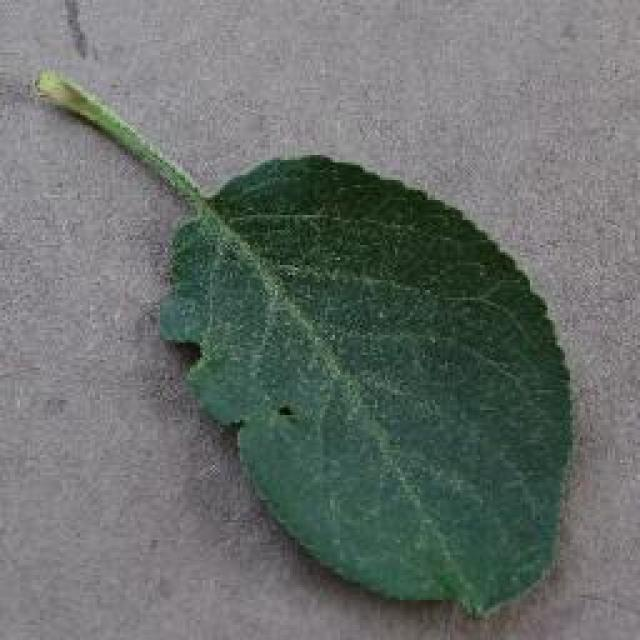apple healthy: (30, 65, 578, 617)
